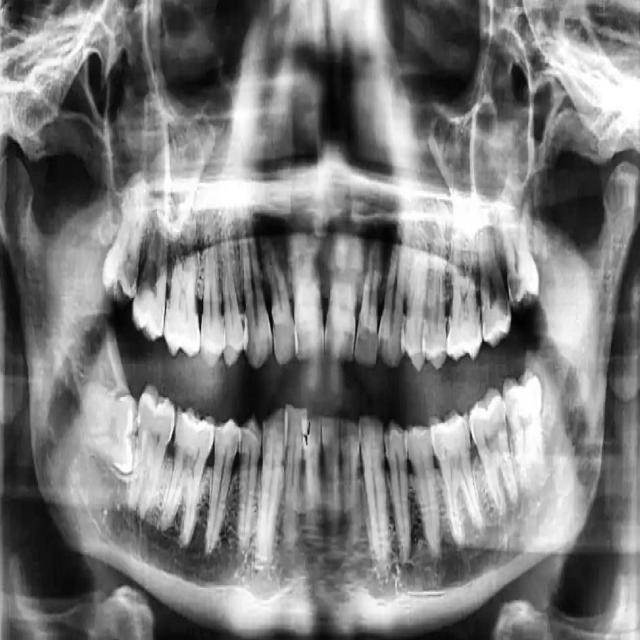karies: (242, 412, 268, 456)
